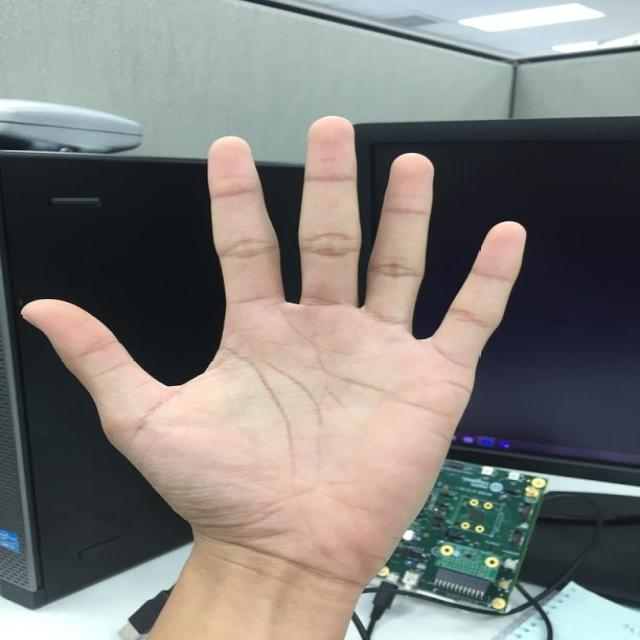hand: (20, 117, 529, 583)
